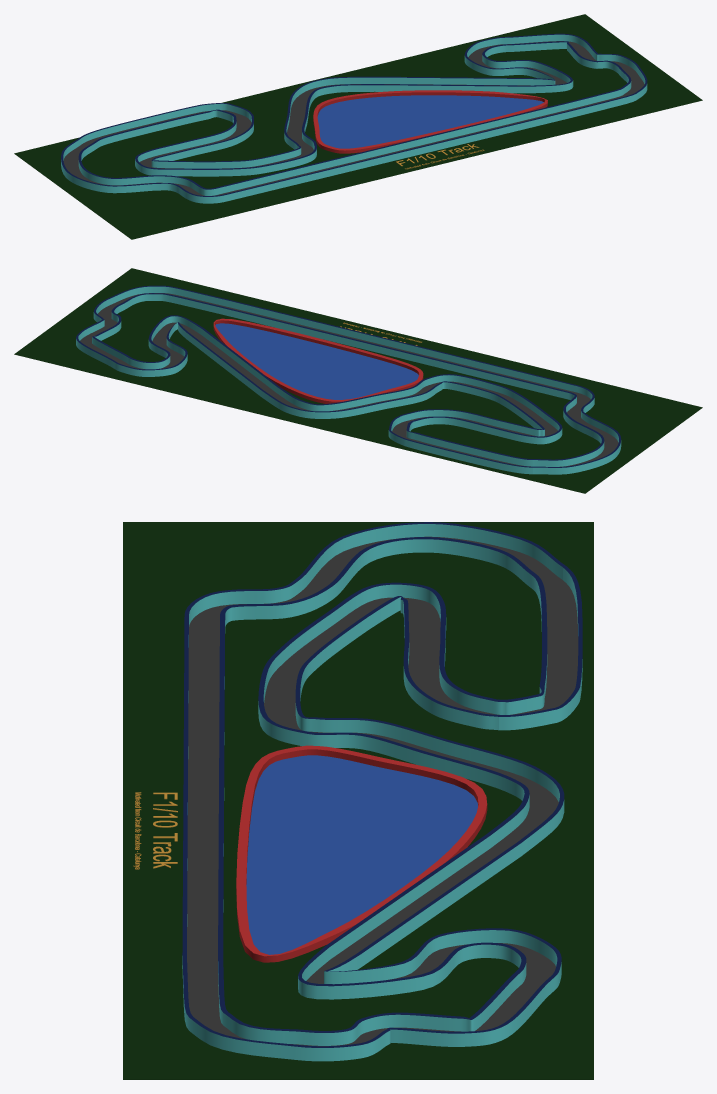
The model's file is barca_track.dae.
3 views of the same model, one above another, from view 1: azimuth 30°, elevation 25°; view 2: azimuth 150°, elevation 25°; view 3: azimuth 270°, elevation 25° (orthographic). The views are drawn at different scales.
Parts seen in each view (by area): view 1: Box001, Line002, Line003, Line001, Line004; view 2: Box001, Line002, Line003, Line001, Line004; view 3: Box001, Line002, Line001, Line003, Line004, Text001.
Boxes of the visible parts, <box> form: Box001: <box>14,14,702,239</box>; Line002: <box>61,33,647,203</box>; Line003: <box>317,95,543,148</box>; Line001: <box>63,41,644,195</box>; Line004: <box>313,90,547,153</box>; Box001: <box>14,268,702,493</box>; Line002: <box>76,285,621,474</box>; Line003: <box>215,323,418,399</box>; Line001: <box>80,293,618,466</box>; Line004: <box>213,318,423,403</box>; Box001: <box>123,522,593,1079</box>; Line002: <box>182,522,582,1061</box>; Line001: <box>187,536,578,1046</box>; Line003: <box>246,755,477,954</box>; Line004: <box>236,745,487,962</box>; Text001: <box>153,792,177,868</box>.
Bounding box in the file's own units: 700 × 250 × 8.
